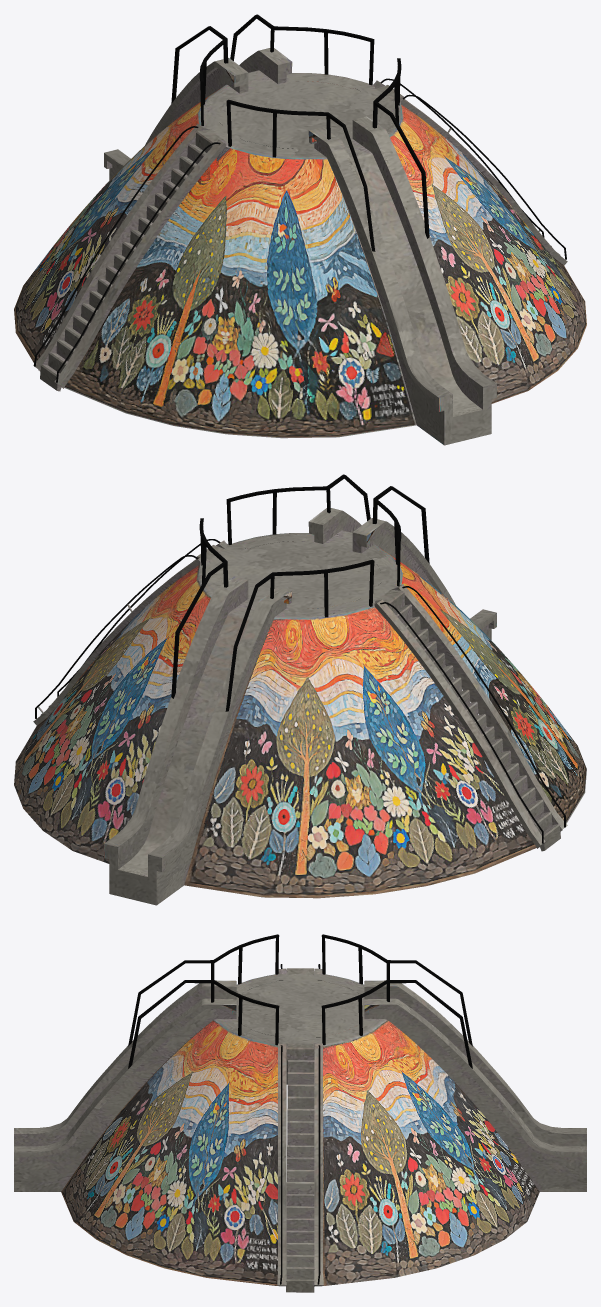
The model's file is tobogan.glb.
3 views of the same model, one above another, from view 1: azimuth 30°, elevation 25°; view 2: azimuth 150°, elevation 25°; view 3: azimuth 270°, elevation 25° (orthographic). The views are drawn at different scales.
Visible parts, largest first — view 1: Cone; view 2: Cone; view 3: Cone.
Part boxes in pixels (left/top/right/bottom): Cone: left=14, top=14, right=586, bottom=445; Cone: left=14, top=474, right=586, bottom=905; Cone: left=14, top=934, right=586, bottom=1292.
Size of the model in its own units: 6.9 by 3.3 by 7.86.
Materials: 1 (1 with a texture image).
